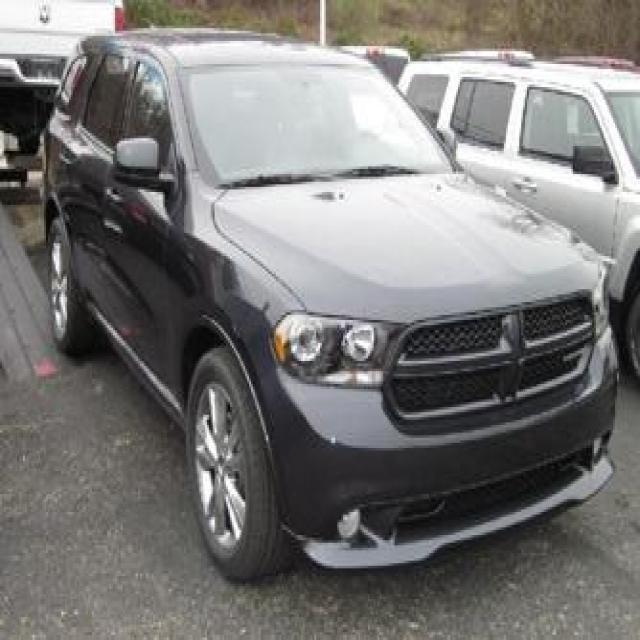Car: (25, 42, 640, 595)
